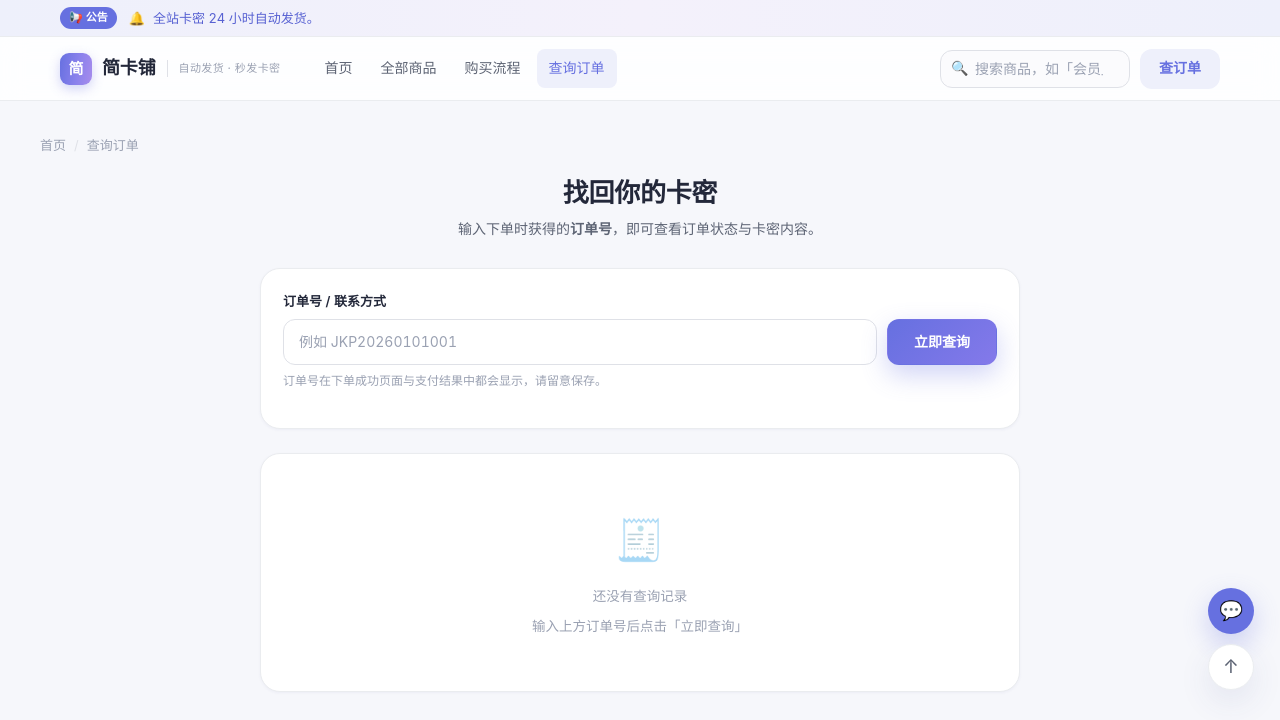
Test case: 查询订单页 › 查不到订单时展示提示
Expected: the heading "找回你的卡密" is shown, [563,177,717,208]
Type "JKP00000000000" into the field labelled "订单号 / 联系方式" at (580, 342), box [283,319,877,365]
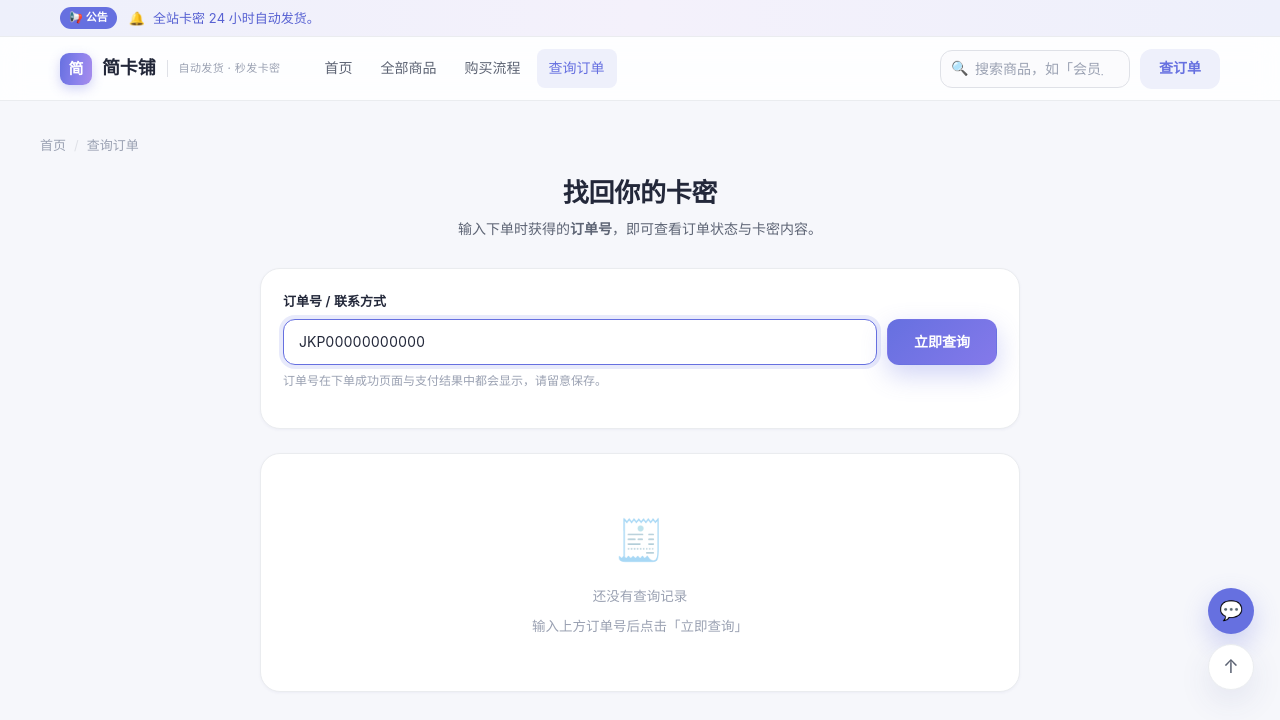
Click the button "立即查询" at (942, 342), box [887,319,997,365]
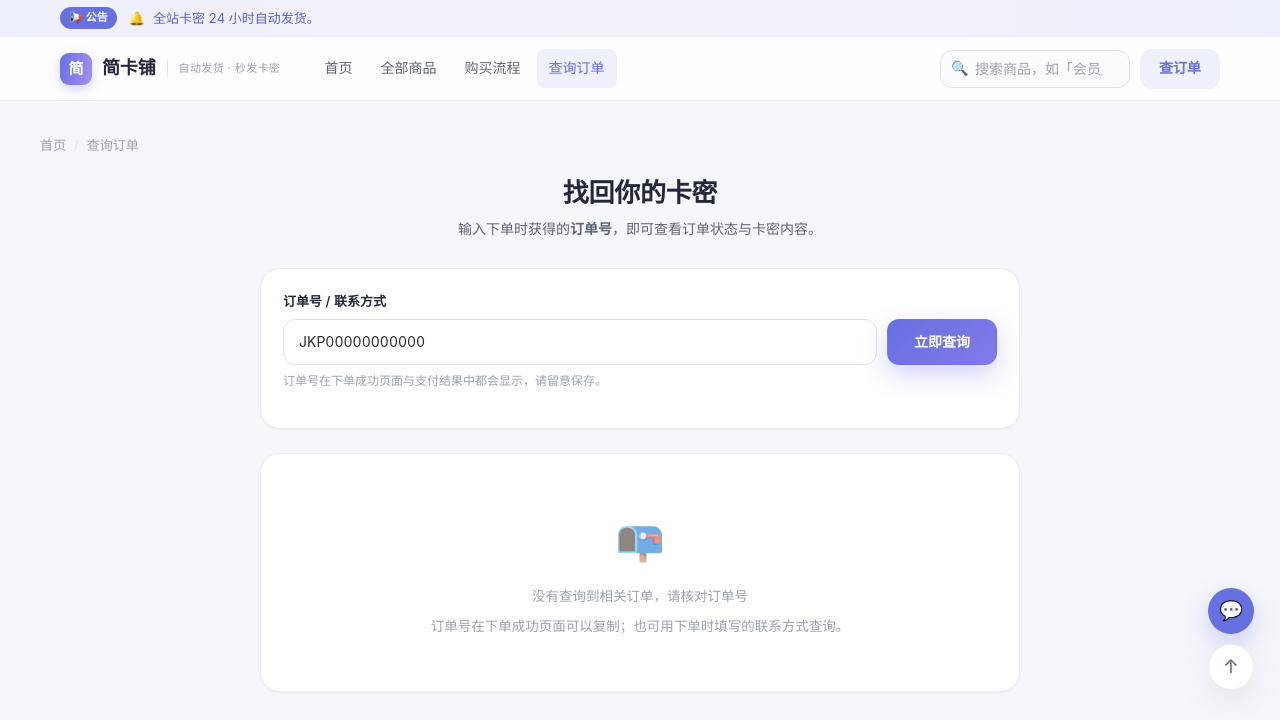
Result: the text "没有查询到相关订单，请核对订单号" is shown at [532,588,748,604]
